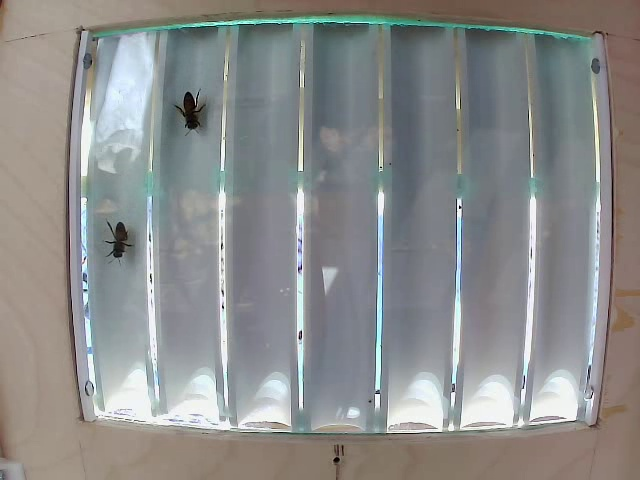bee: (95, 219, 147, 269), (186, 79, 218, 142)
